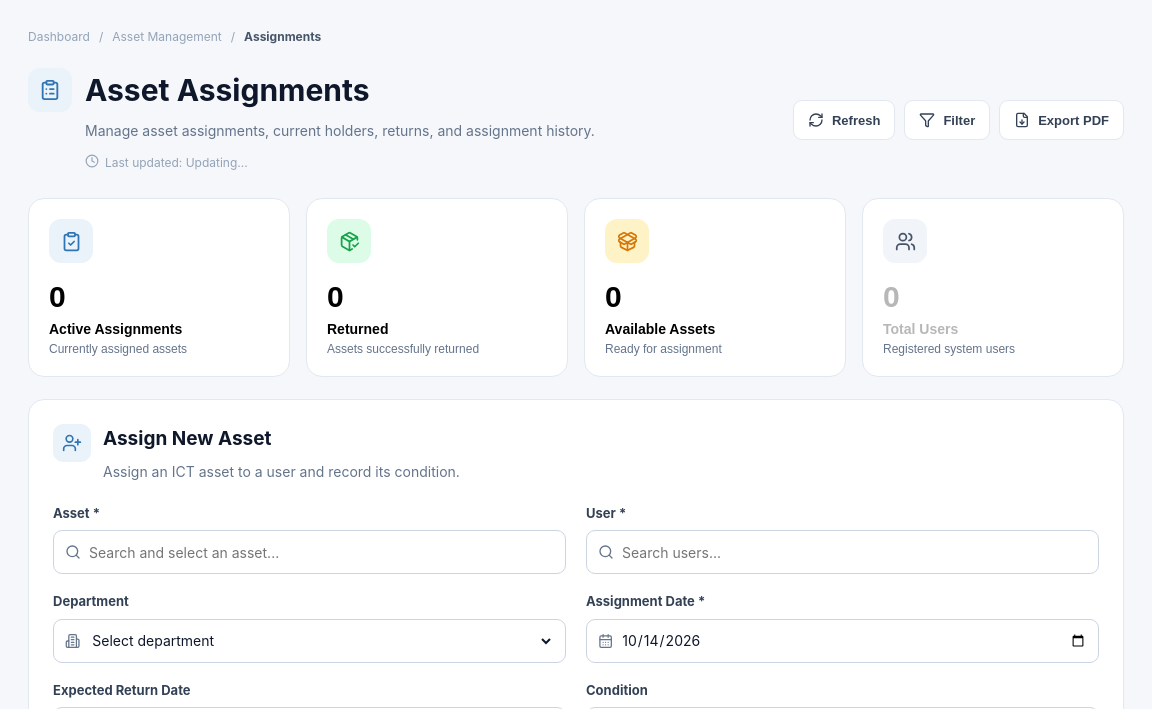
ICTAssignments asset loading › renders successfully loaded assets in the asset selector
Focus the field labelled "asset" at (322, 552), box [89,531,554,573]
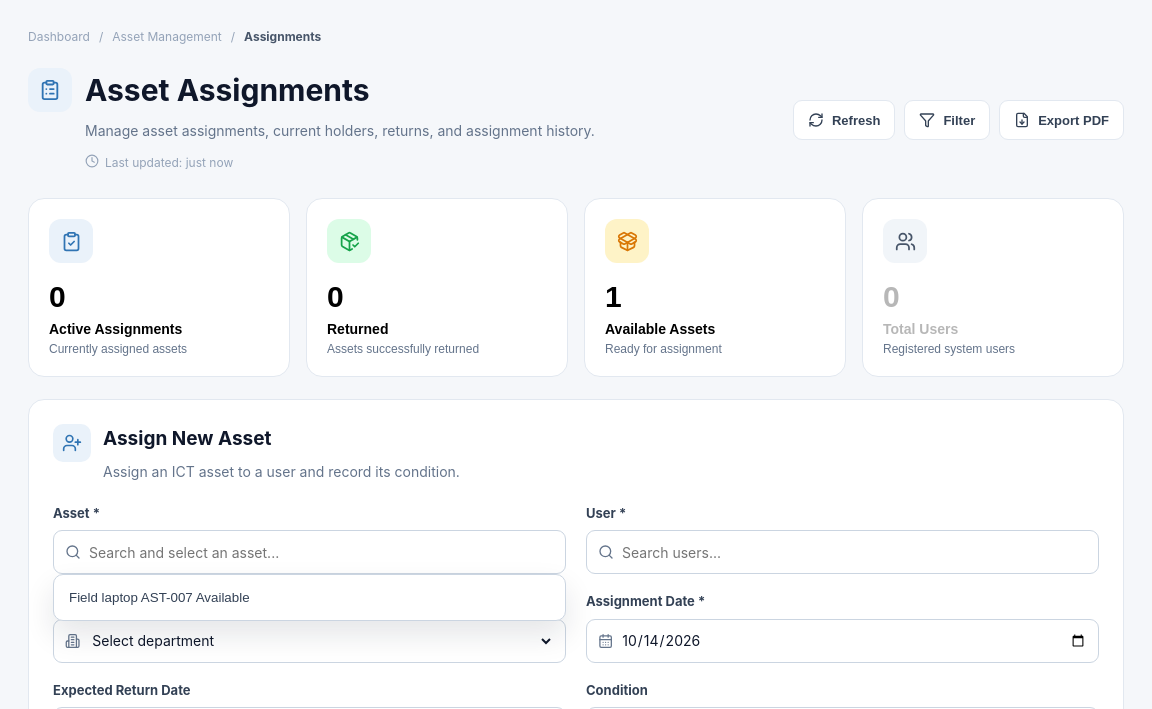
Now the option "Field laptop AST-007 Available" is shown, box [59,580,560,614]
